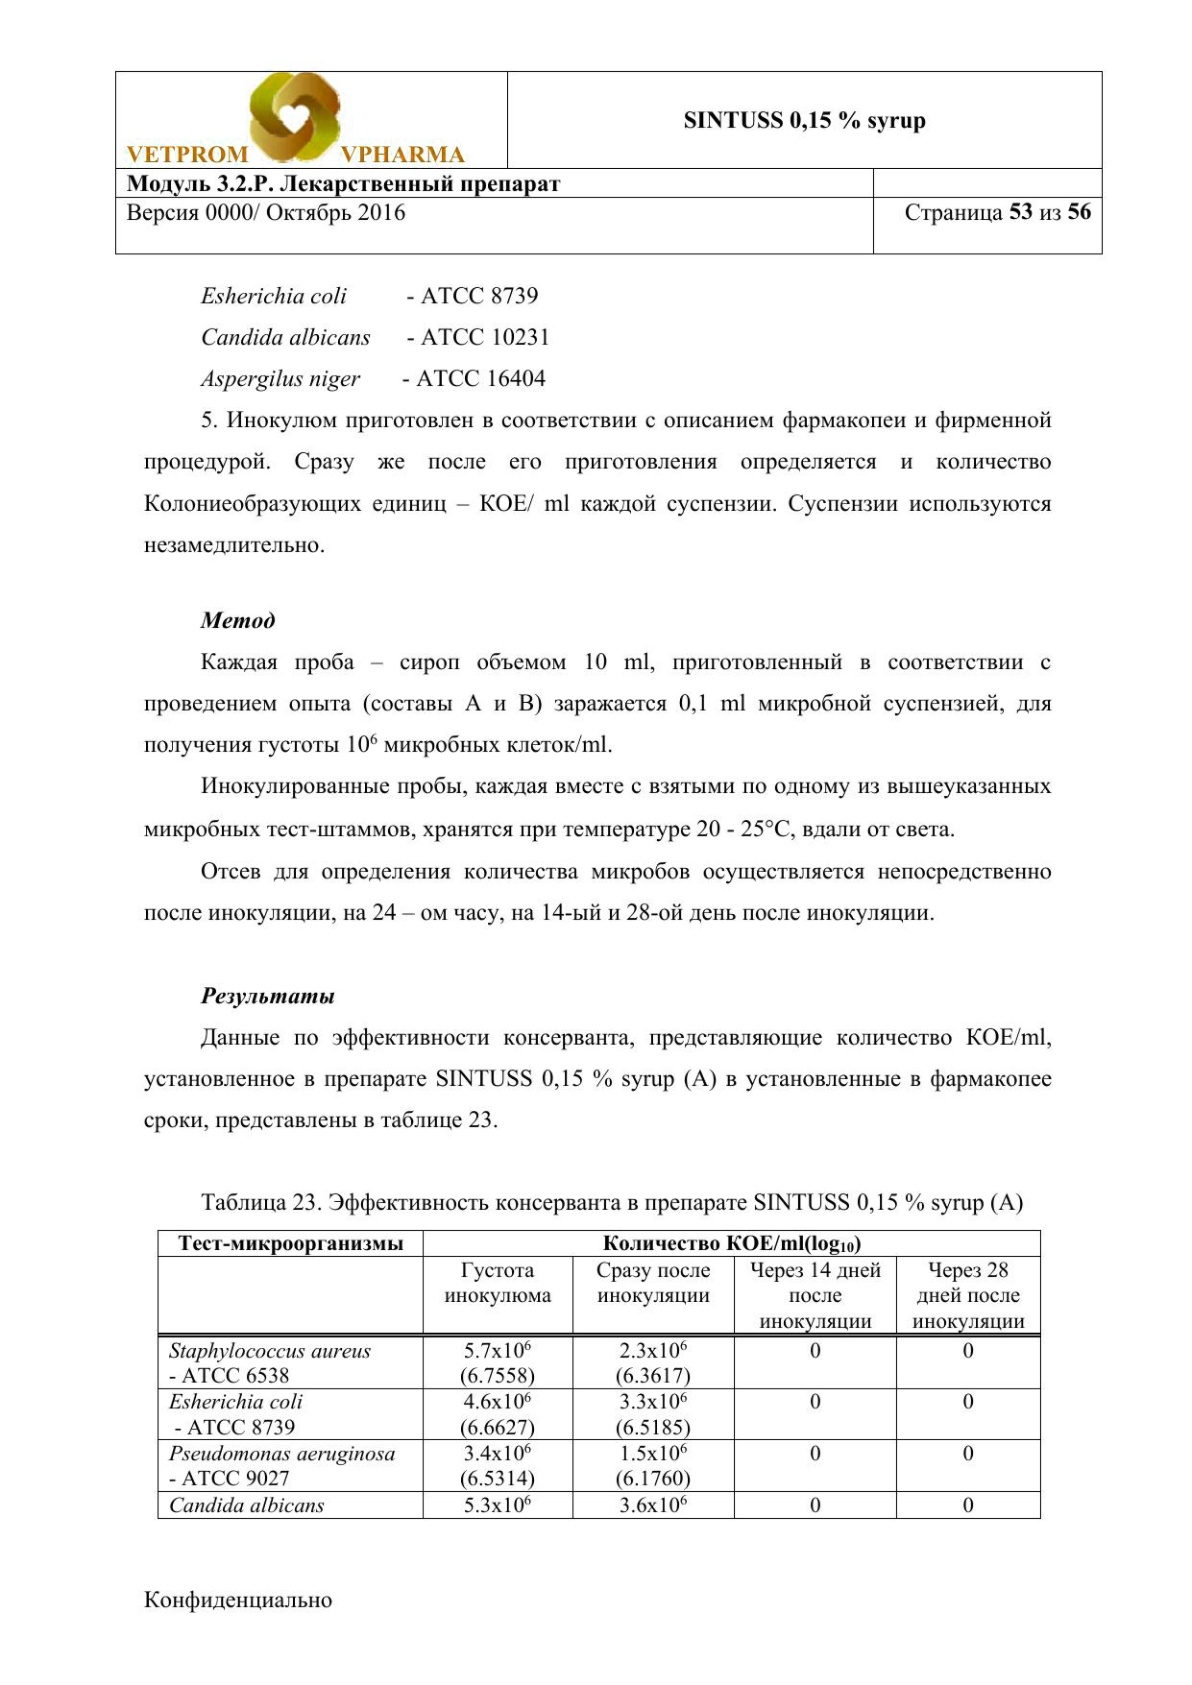merged_cells: (156, 1228, 1041, 1521), (114, 68, 1106, 255)
